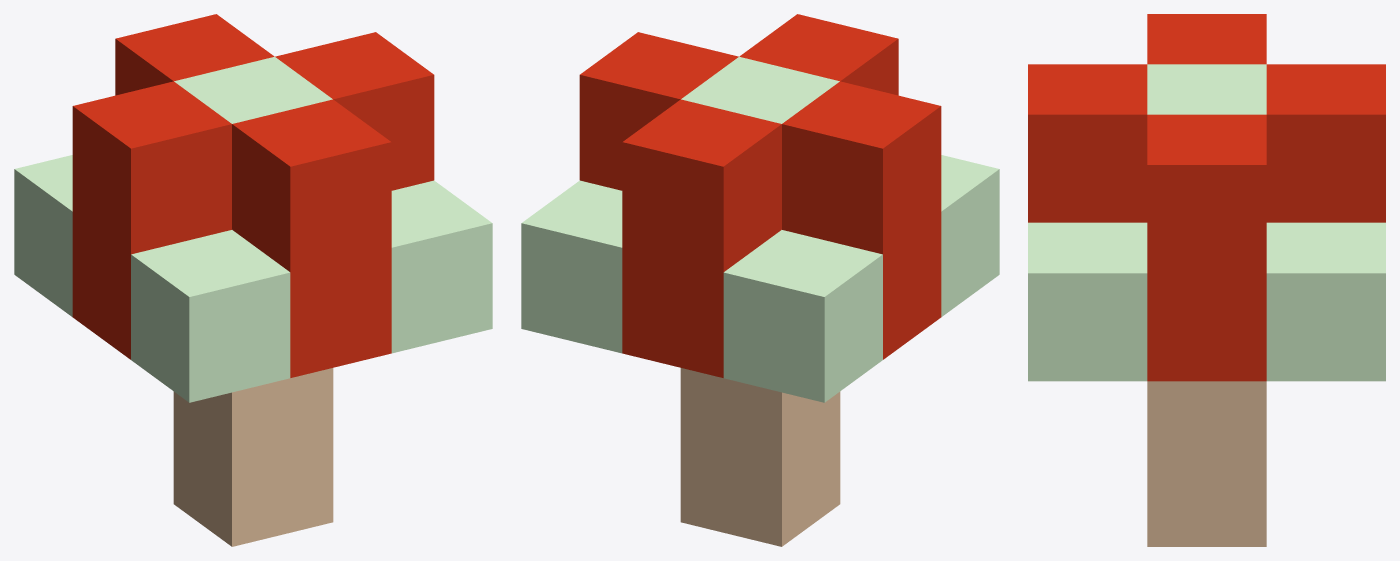
Rendered from tile-43.obj.
3 renders of one model, left to right at view 1: azimuth 30°, elevation 25°; view 2: azimuth 150°, elevation 25°; view 3: azimuth 270°, elevation 25°, orthographic. The views are drawn at different scales.
Size of the model in its own units: 0.3 by 0.4 by 0.3.
Materials: 1 (1 with a texture image).
